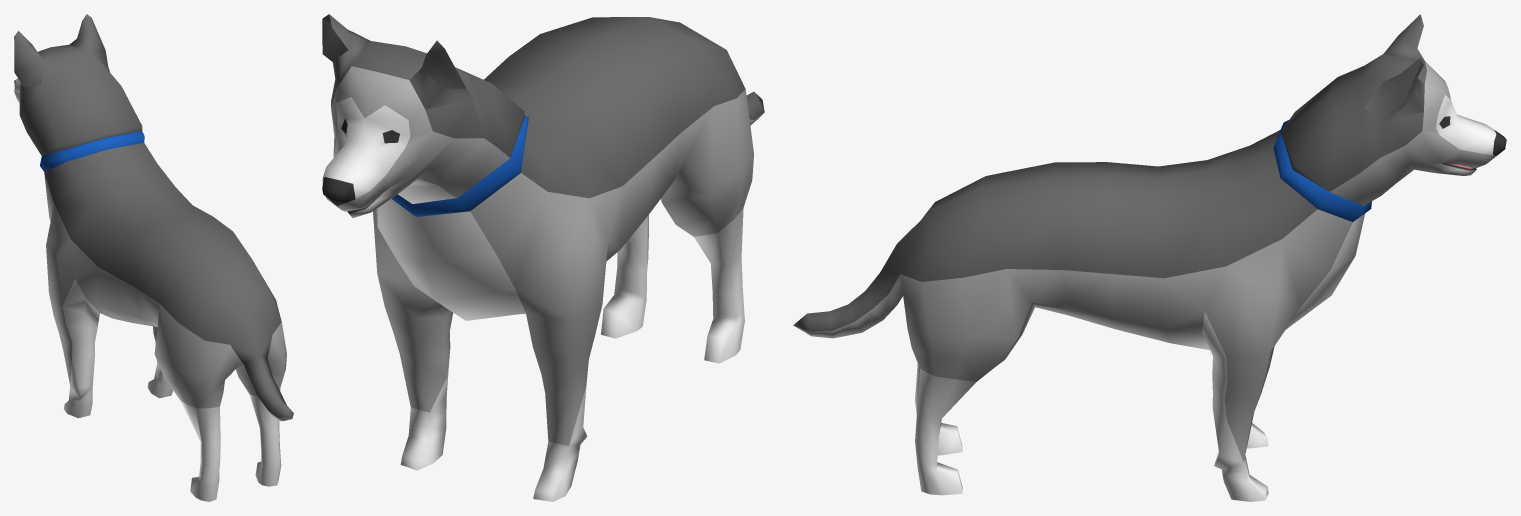
The model's file is dog.glb.
The picture shows the model from 3 angles, left to right: view 1: azimuth 30°, elevation 25°; view 2: azimuth 150°, elevation 25°; view 3: azimuth 270°, elevation 25°; orthographic projection. The views are drawn at different scales.
Parts seen in each view (by area): view 1: dog; view 2: dog; view 3: dog.
Boxes of the visible parts, box(x1,y1,x2,y2) form: dog: box(14, 14, 293, 501); dog: box(322, 14, 764, 501); dog: box(793, 14, 1506, 501).
Size of the model in its own units: 0.3197 by 0.7869 by 1.17.
1 material, 1 textured.
